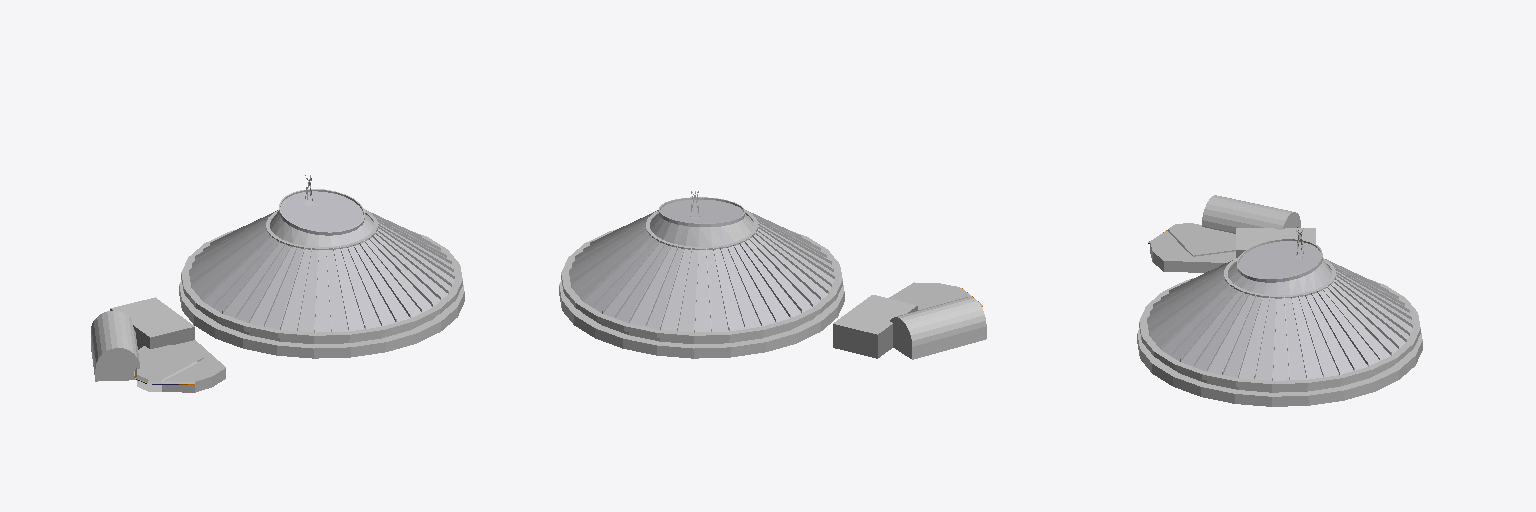
Rendered from spacemountain.obj.
3 renders of one model, left to right at view 1: azimuth 30°, elevation 25°; view 2: azimuth 150°, elevation 25°; view 3: azimuth 270°, elevation 25°, orthographic.
Visible parts, largest first — view 1: mesh8_mesh8-geometry, mesh9_mesh9-geometry; view 2: mesh8_mesh8-geometry, mesh9_mesh9-geometry; view 3: mesh8_mesh8-geometry, mesh9_mesh9-geometry.
Part boxes in pixels (left/top/right/bottom): mesh8_mesh8-geometry: left=179, top=189, right=464, bottom=358; mesh9_mesh9-geometry: left=91, top=297, right=225, bottom=392; mesh8_mesh8-geometry: left=559, top=197, right=844, bottom=358; mesh9_mesh9-geometry: left=833, top=282, right=986, bottom=359; mesh8_mesh8-geometry: left=1137, top=239, right=1422, bottom=406; mesh9_mesh9-geometry: left=1148, top=195, right=1315, bottom=272.
Bounding box in the file's own units: 109 × 32.23 × 71.29.